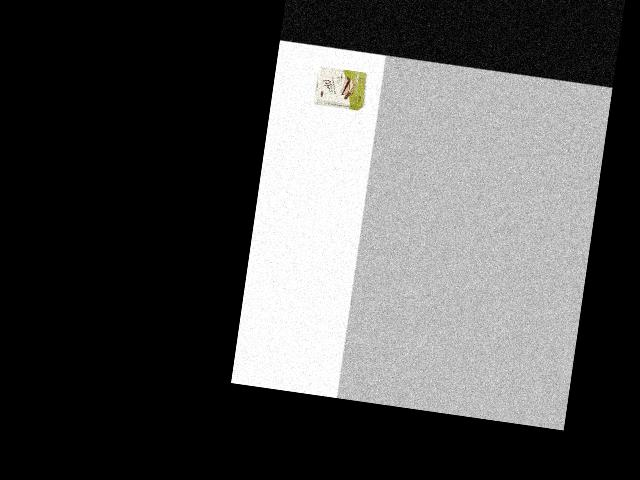chocolate: (312, 65, 369, 114)
